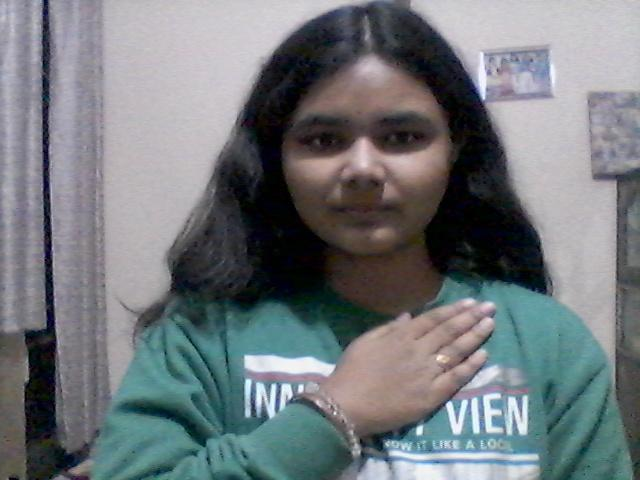please: (310, 290, 505, 432)
